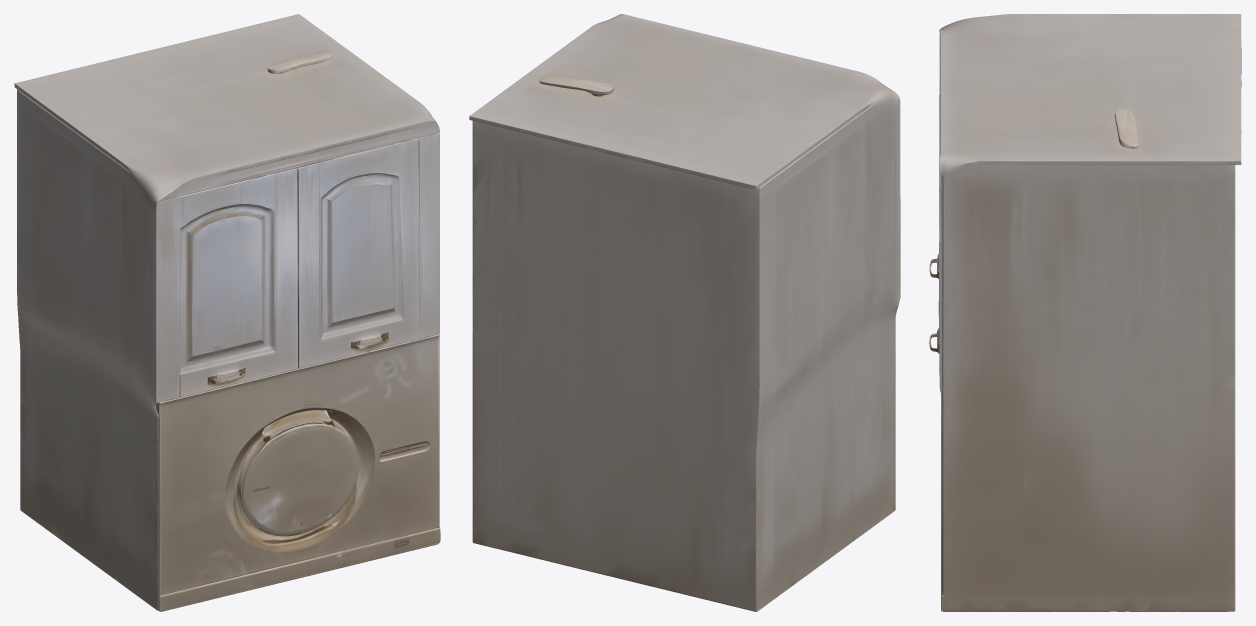
File: lidded-pot.glb
3 renders of one model, left to right at view 1: azimuth 30°, elevation 25°; view 2: azimuth 150°, elevation 25°; view 3: azimuth 270°, elevation 25°, orthographic. The views are drawn at different scales.
Visible parts, largest first — view 1: model; view 2: model; view 3: model.
Boxes of the visible parts, bbox=[...] form: model: bbox=[14, 14, 440, 611]; model: bbox=[469, 14, 900, 611]; model: bbox=[929, 14, 1241, 611].
Size of the model in its own units: 1.3 by 1.89 by 1.16.
Materials: 1 (1 with a texture image).
